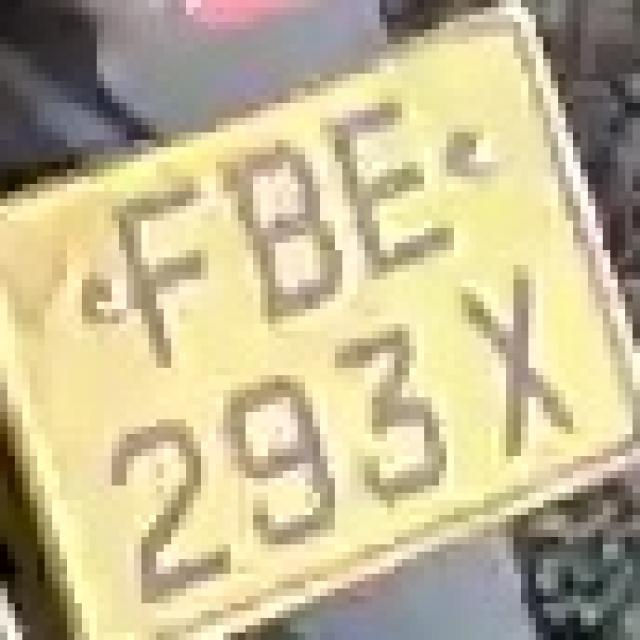2: (104, 397, 231, 603)
3: (313, 338, 454, 552)
9: (208, 368, 350, 566)
B: (216, 132, 357, 338)
E: (328, 88, 447, 294)
F: (97, 162, 230, 375)
X: (446, 250, 596, 471)
